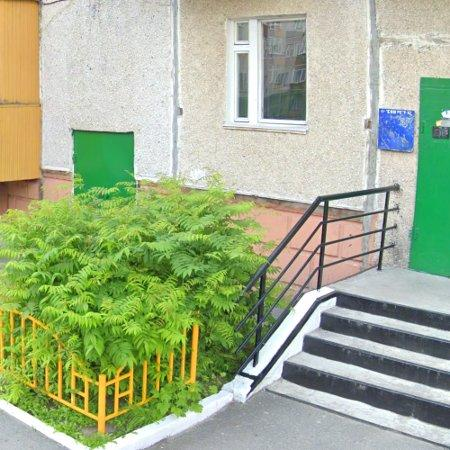stairs: (269, 269, 450, 450)
